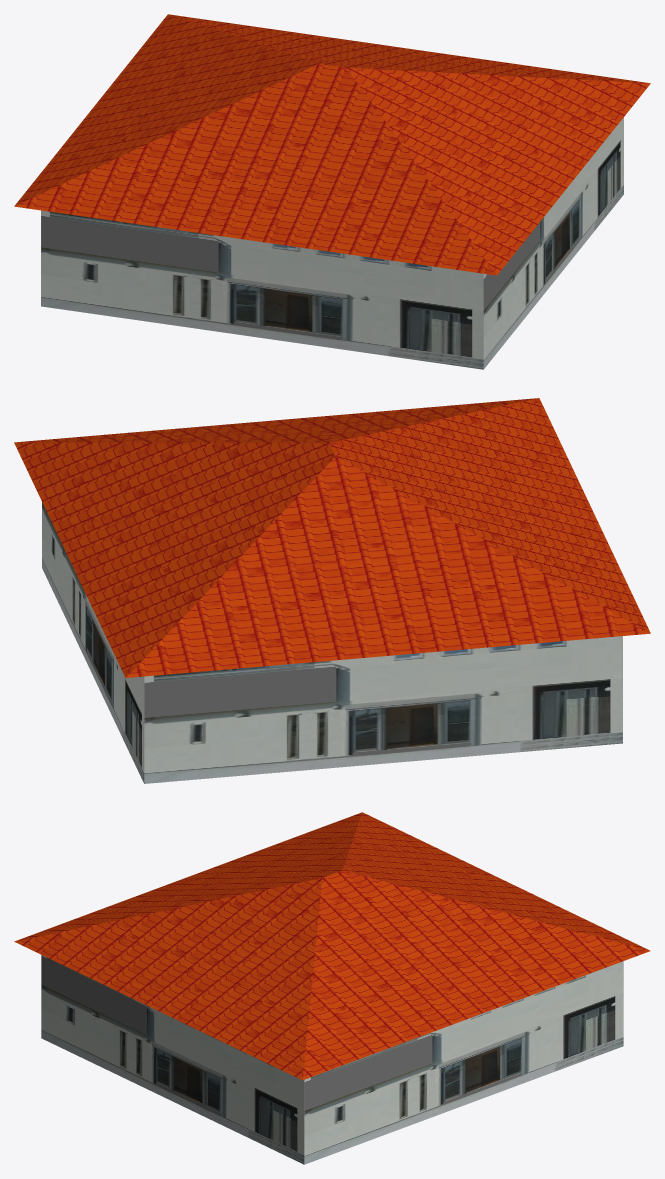
The picture shows the model from 3 angles, top to bottom: view 1: azimuth 30°, elevation 25°; view 2: azimuth 150°, elevation 25°; view 3: azimuth 270°, elevation 25°; orthographic projection. The views are drawn at different scales.
Parts seen in each view (by area): view 1: CityEngineMaterial_12_m, CityEngineMaterial_11_m; view 2: CityEngineMaterial_12_m, CityEngineMaterial_11_m; view 3: CityEngineMaterial_12_m, CityEngineMaterial_11_m.
Boxes of the visible parts, box(x1,y1,x2,y2) form: CityEngineMaterial_12_m: box(14, 14, 650, 275); CityEngineMaterial_11_m: box(41, 117, 623, 369); CityEngineMaterial_12_m: box(14, 398, 650, 677); CityEngineMaterial_11_m: box(42, 502, 622, 783); CityEngineMaterial_12_m: box(14, 812, 650, 1080); CityEngineMaterial_11_m: box(41, 955, 623, 1164).
Bounding box in the file's own units: 30.74 × 8.98 × 30.86.
